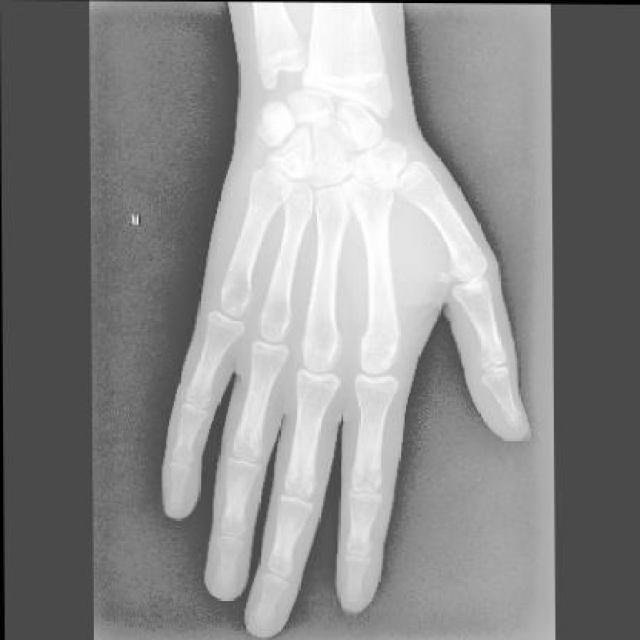Fracture: (364, 318, 406, 358)
